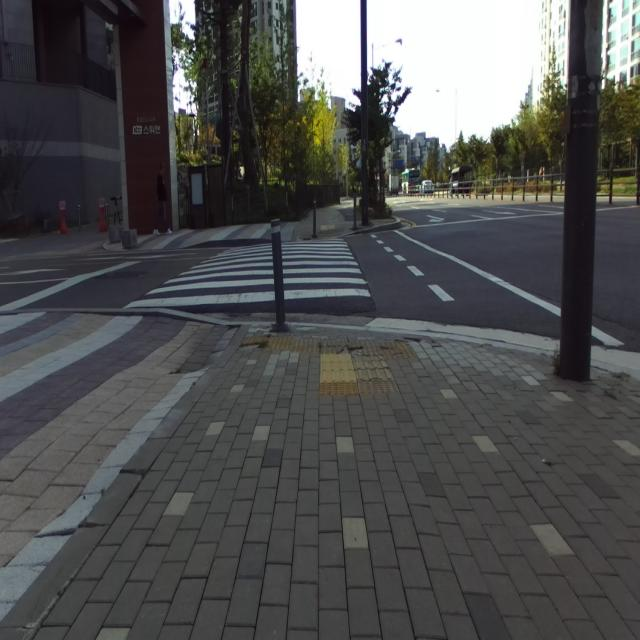횡단보도: (123, 239, 371, 308)
